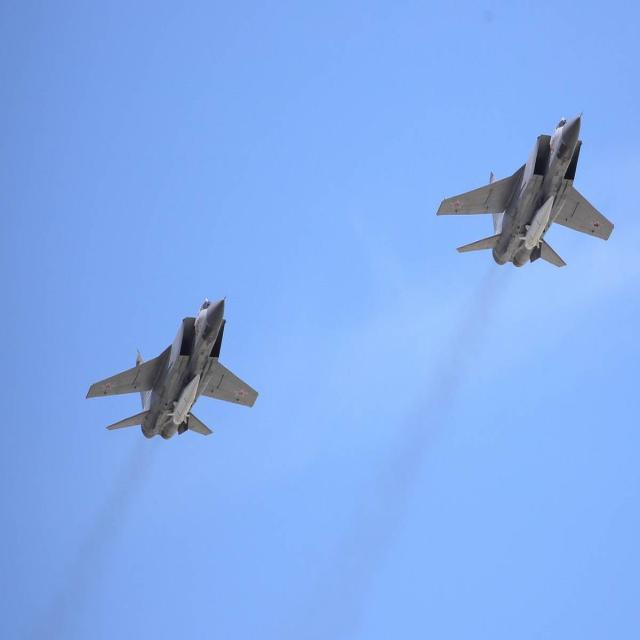MIL_Plane: (436, 110, 615, 268), (85, 312, 259, 423)
